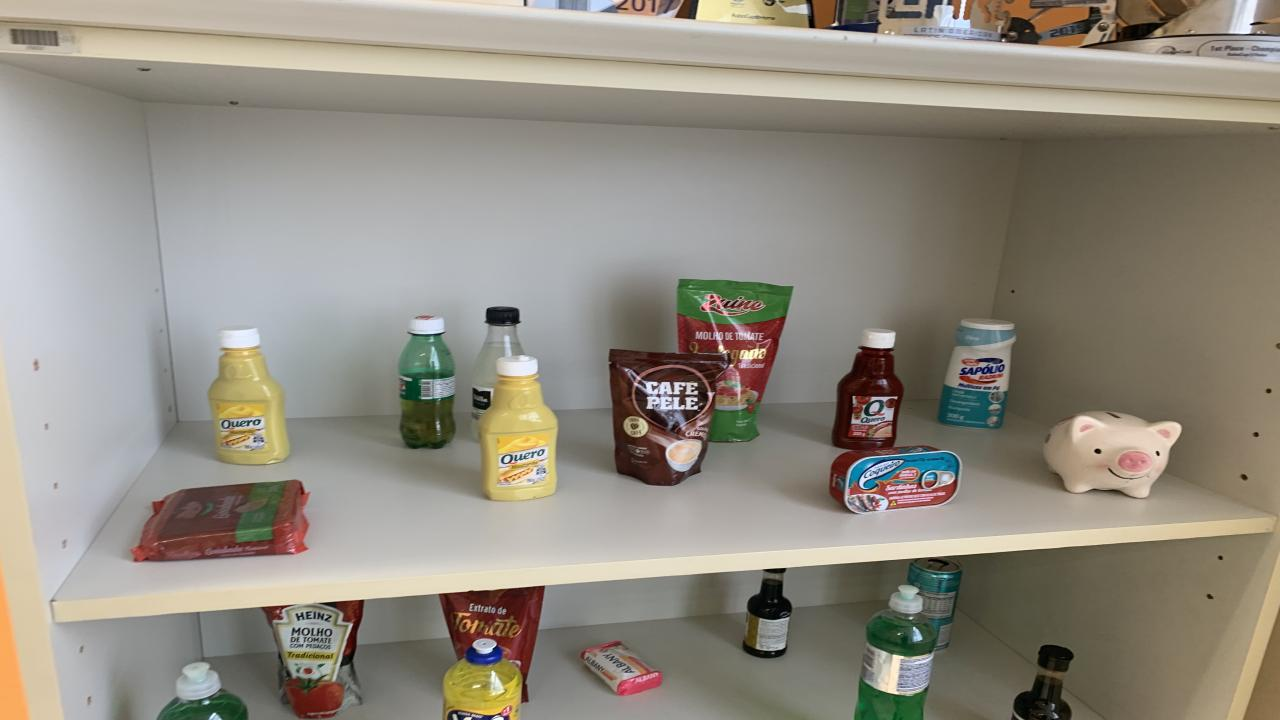Cleaner-Cleanup_Items: (938, 319, 1015, 428)
Coffee-Pantry_Items: (610, 349, 730, 486)
Detergent-Cleanup_Items: (855, 585, 938, 720), (442, 638, 522, 720), (158, 662, 248, 720)
English_Sauce-Pantry_Items: (742, 568, 792, 658), (1012, 645, 1072, 720)
Guarana-Drinks: (398, 317, 455, 448)
Guava-Snacks: (130, 480, 308, 561)
Ketchup-Pantry_Items: (832, 328, 902, 450)
Mustard-Pantry_Items: (478, 354, 558, 501), (208, 326, 290, 465)
Pig_Safe-Miscellaneous: (1045, 411, 1182, 497)
Soap-Cleanup_Items: (580, 641, 662, 696)
Soda-Drinks: (472, 308, 525, 422)
Tea-Drinks: (908, 557, 962, 651)
Tomato_Sauce-Pantry_Items: (678, 279, 792, 442), (440, 587, 545, 703), (262, 600, 362, 718)
Tuna_Can-Pantry_Items: (830, 446, 962, 514)
